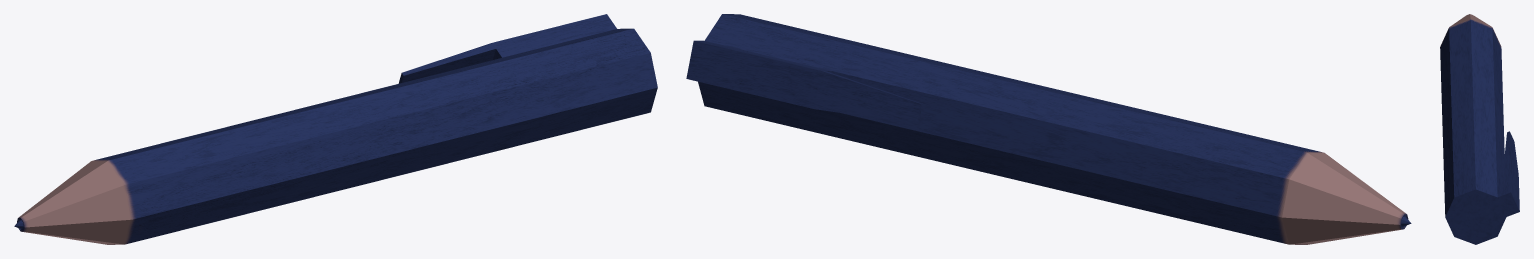
Rendered from Pen.fbx.
3 views of the same model, side by side, from view 1: azimuth 30°, elevation 25°; view 2: azimuth 150°, elevation 25°; view 3: azimuth 270°, elevation 25° (orthographic). The views are drawn at different scales.
Parts seen in each view (by area): view 1: Pen_Table; view 2: Pen_Table; view 3: Pen_Table.
Part boxes in pixels (x1,y1,x2,y2): Pen_Table: [14, 14, 657, 244]; Pen_Table: [686, 14, 1411, 244]; Pen_Table: [1440, 14, 1519, 244].
Bounding box in the file's own units: 254 × 32.73 × 42.57.
Materials: 1 (1 with a texture image).
